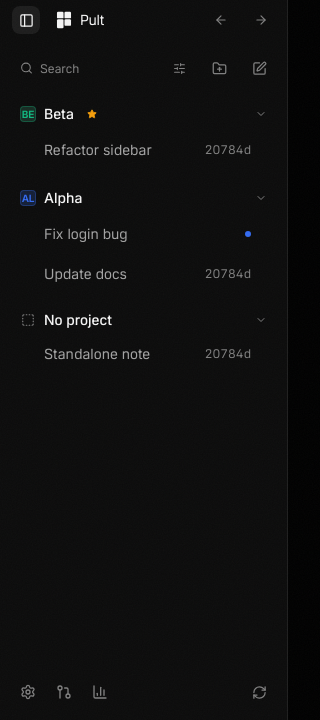
Sidebar › searching a project name shows all its threads and excludes other projects
The image size is (320, 720).
Type "alpha" into the search field named "Search projects and threads" at (104, 68), box 12,52 -> 195,84
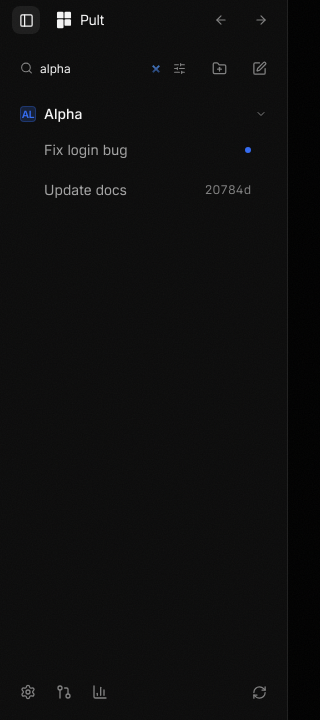
Result: the button "Beta" is gone
Result: the link "Refactor sidebar" is gone
Result: the link "Standalone note" is gone
